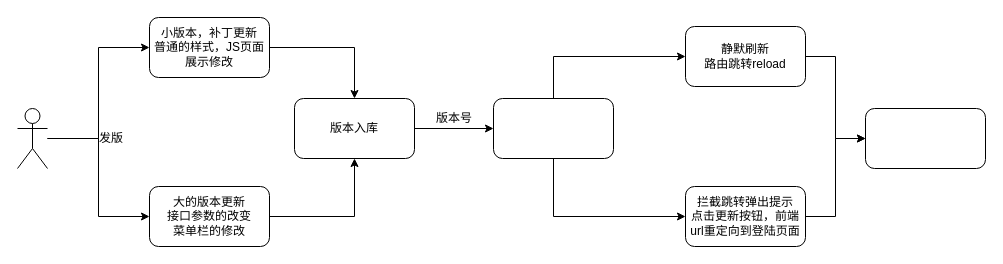
The diagram is 1003 pixels wide and 264 high, and some of its shapes have lost their labels. Each missing label, with the centre of its shape:
"Actor" goes at point (32, 138).
"cmd_70010接口获取前端版本" goes at point (553, 128).
"结束" goes at point (925, 138).
